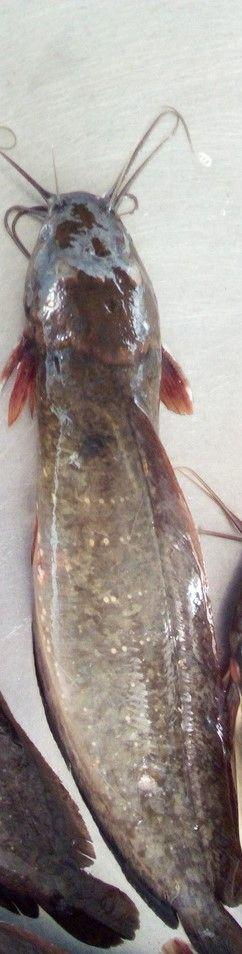Catfish: (1, 98, 242, 938)
